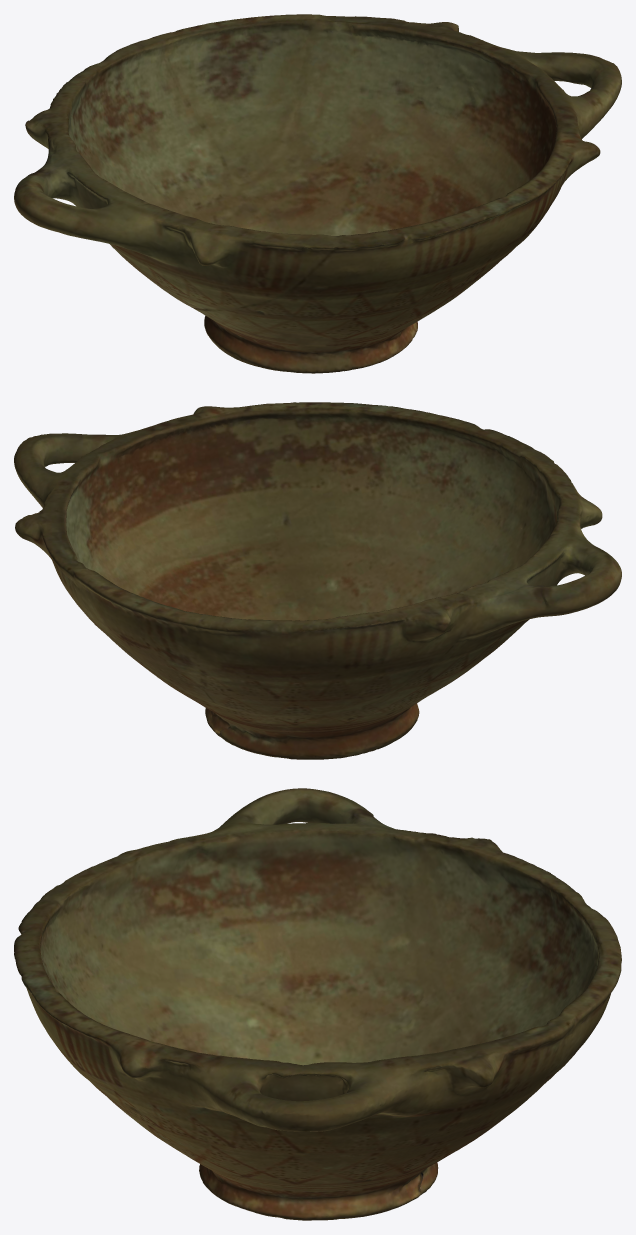
Rendered from kylix.glb.
The picture shows the model from 3 angles, top to bottom: view 1: azimuth 30°, elevation 25°; view 2: azimuth 150°, elevation 25°; view 3: azimuth 270°, elevation 25°; orthographic projection. The views are drawn at different scales.
Size of the model in its own units: 0.22 by 0.0744 by 0.1768.
Materials: 1 (1 with a texture image).
